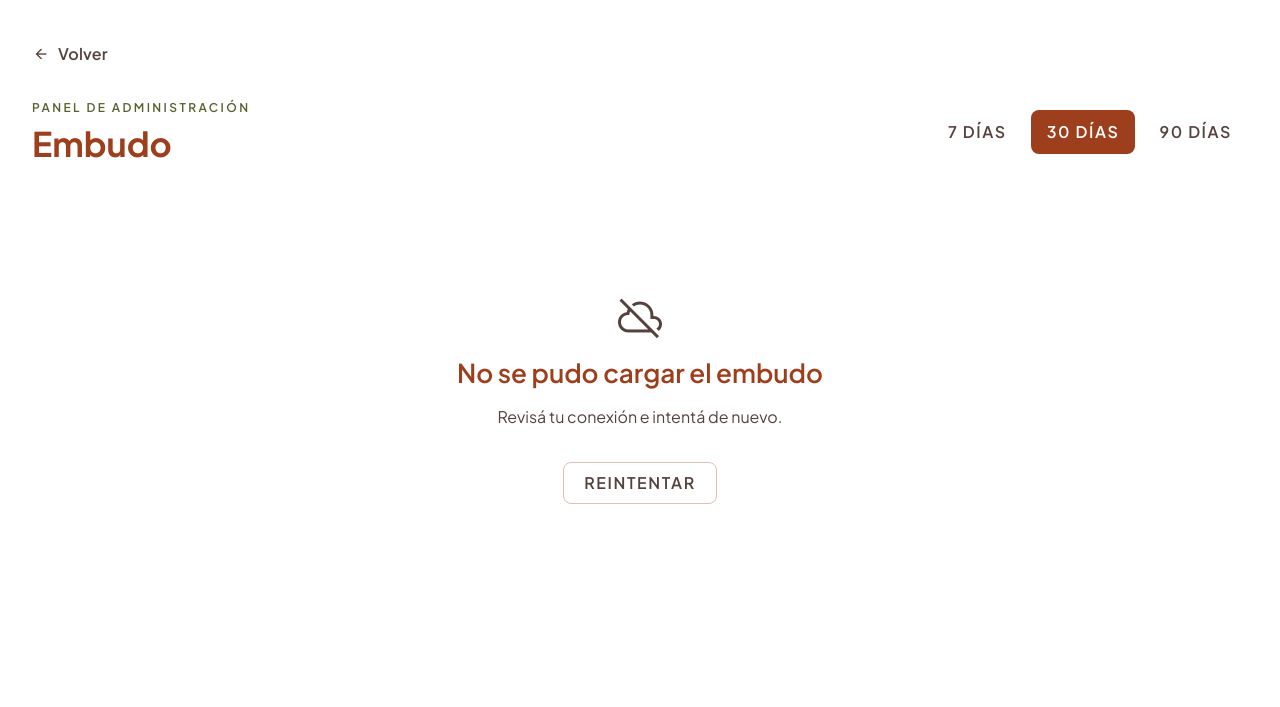
Test: AdminEmbudo › estado de error de carga › Reintentar vuelve a pedir, y el fetch exitoso limpia el error
The image size is (1280, 707).
Expected: the heading "No se pudo cargar el embudo" is shown, [457,357,823,390]
Click the button "Reintentar": coordinates (640, 483) [563,462,717,504]
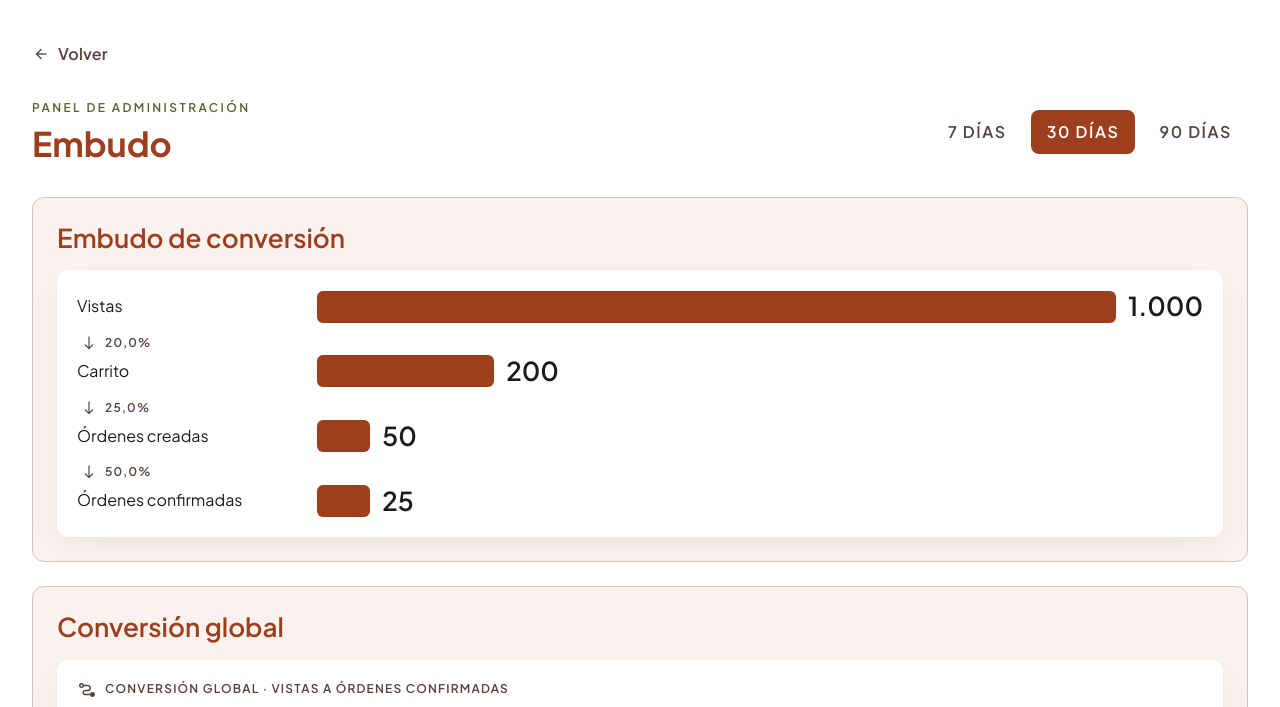
Now the element with test id "grafico-embudo" is shown, box [77,290,1203,517]
Now the heading "No se pudo cargar el embudo" is gone
